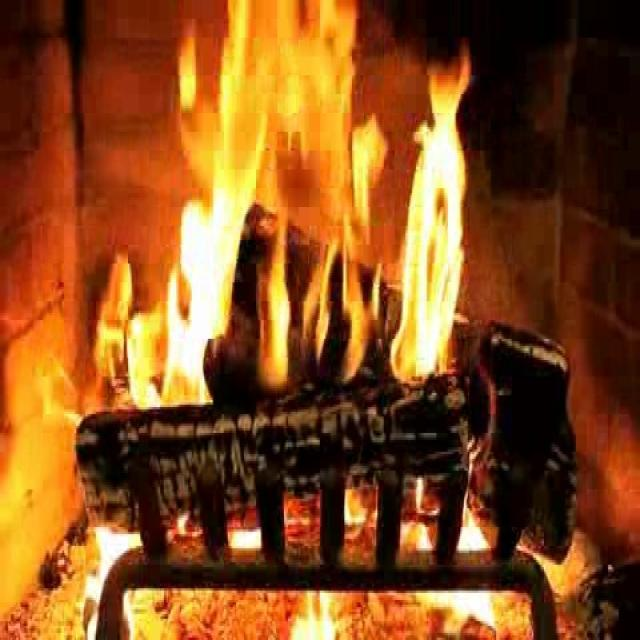Fire: (145, 7, 476, 432)
